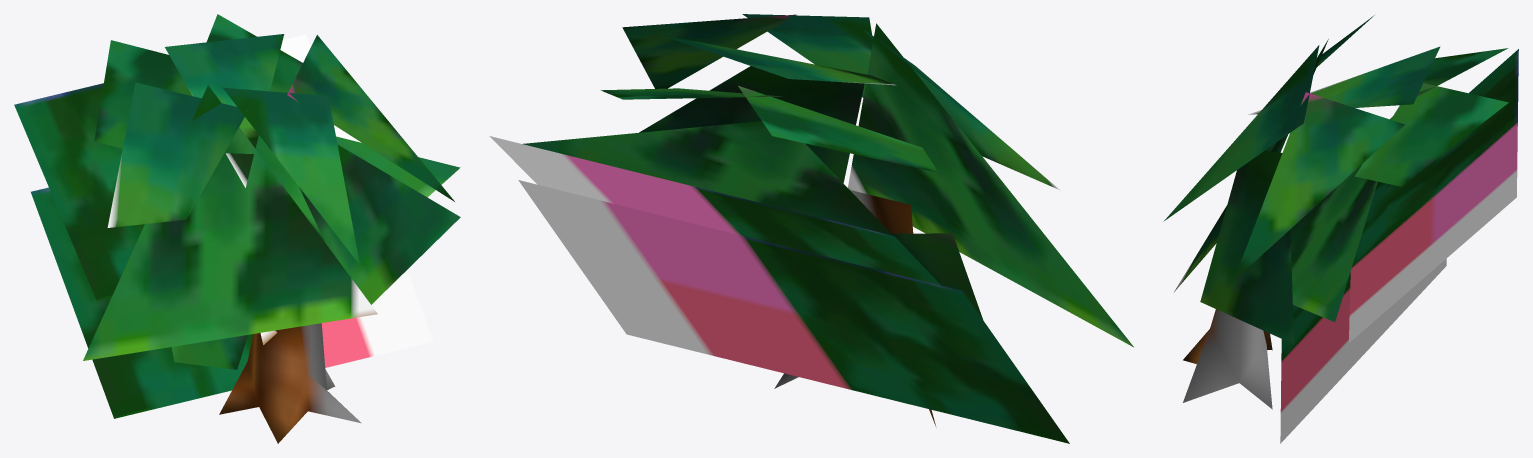
Rendered from fg_bushA_1.dae.
3 views of the same model, side by side, from view 1: azimuth 30°, elevation 25°; view 2: azimuth 150°, elevation 25°; view 3: azimuth 270°, elevation 25° (orthographic). The views are drawn at different scales.
Visible parts, largest first — view 1: fg_bushA_1; view 2: fg_bushA_1; view 3: fg_bushA_1.
Boxes of the visible parts, x1=… form: fg_bushA_1: x1=14, y1=14, x2=460, y2=443; fg_bushA_1: x1=489, y1=14, x2=1133, y2=443; fg_bushA_1: x1=1164, y1=15, x2=1518, y2=443.
Bounding box in the file's own units: 35.43 × 25.39 × 25.39.
Materials: 1 (1 with a texture image).
